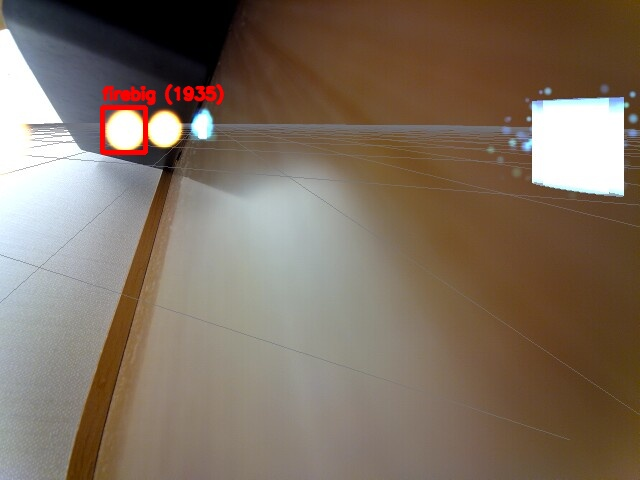firebig: (102, 107, 145, 152)
